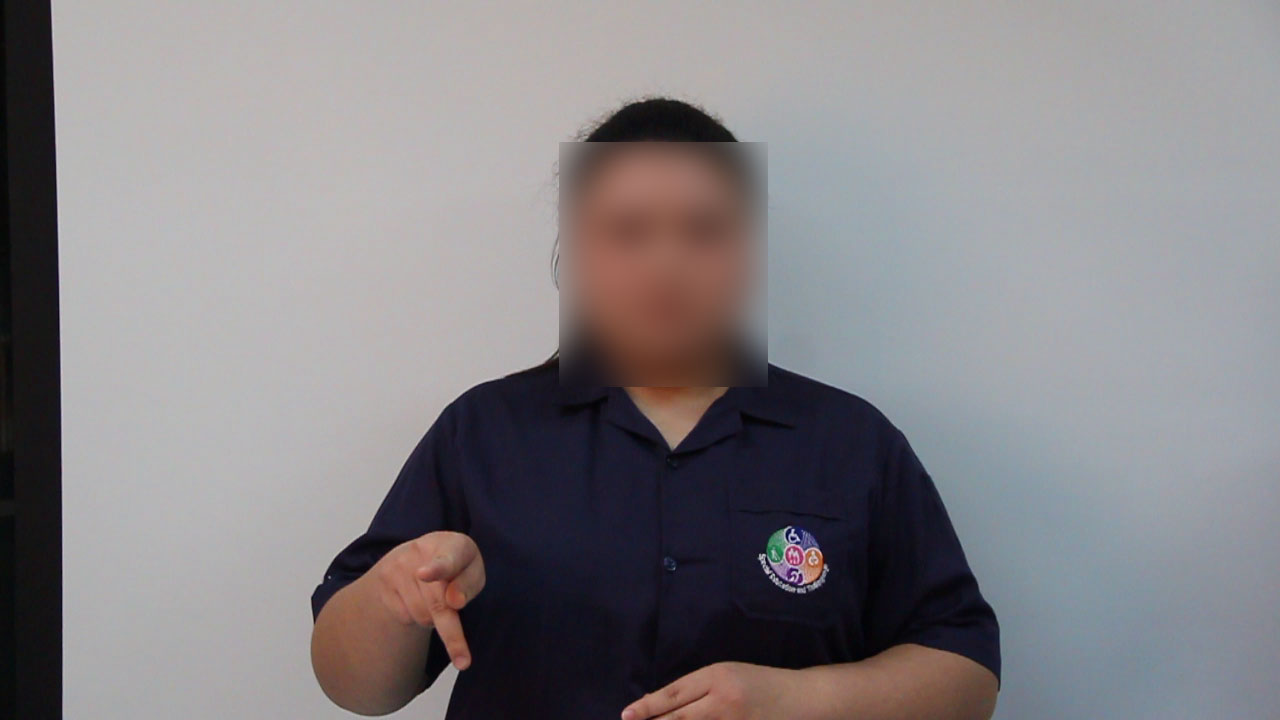por: (375, 522, 500, 678)
